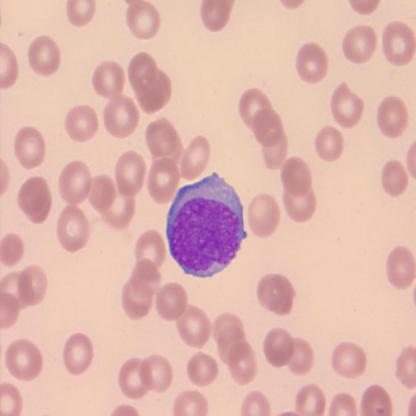Blast: (164, 169, 249, 280)
